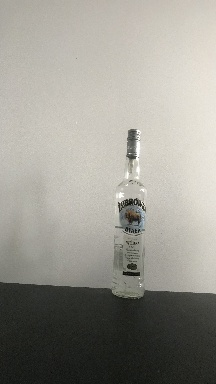butelka: (110, 126, 148, 302)
